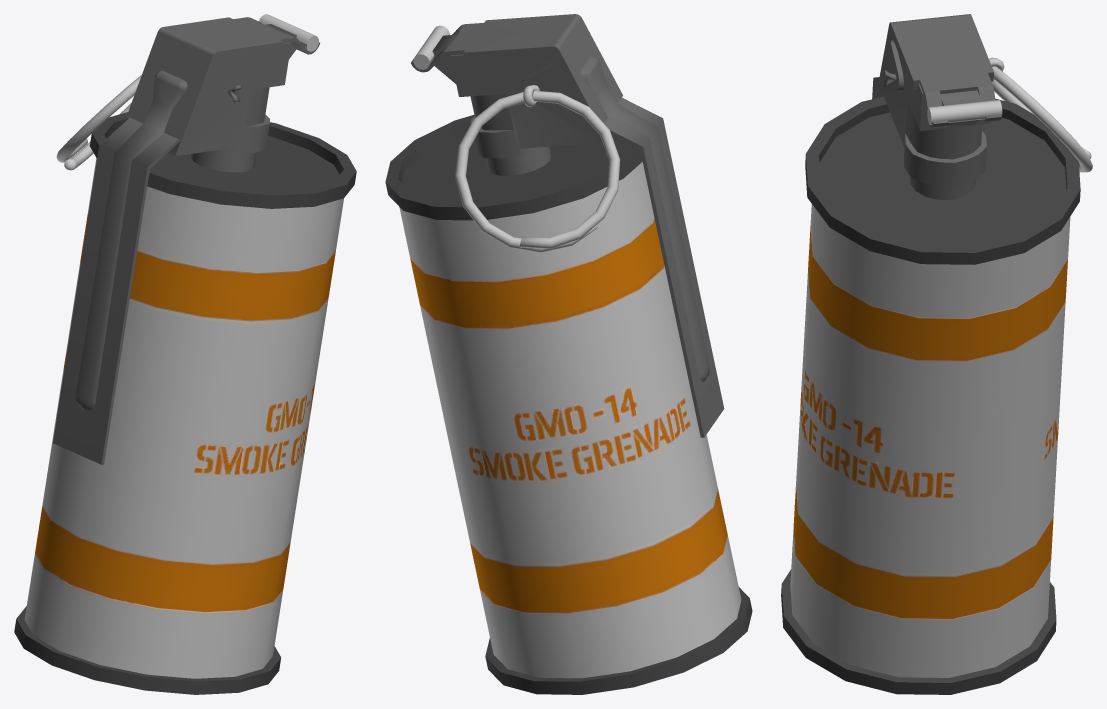
Rendered from Smoke_TP.glb.
The picture shows the model from 3 angles, left to right: view 1: azimuth 30°, elevation 25°; view 2: azimuth 150°, elevation 25°; view 3: azimuth 270°, elevation 25°; orthographic projection. The views are drawn at different scales.
Parts seen in each view (by area): view 1: smokeGrenade; view 2: smokeGrenade; view 3: smokeGrenade.
Part boxes in pixels (<box>): smokeGrenade: <box>14,14,356,694</box>; smokeGrenade: <box>385,14,752,694</box>; smokeGrenade: <box>781,14,1092,694</box>.
Size of the model in its own units: 0.0852 by 0.1605 by 0.0704.
Materials: 1 (1 with a texture image).
